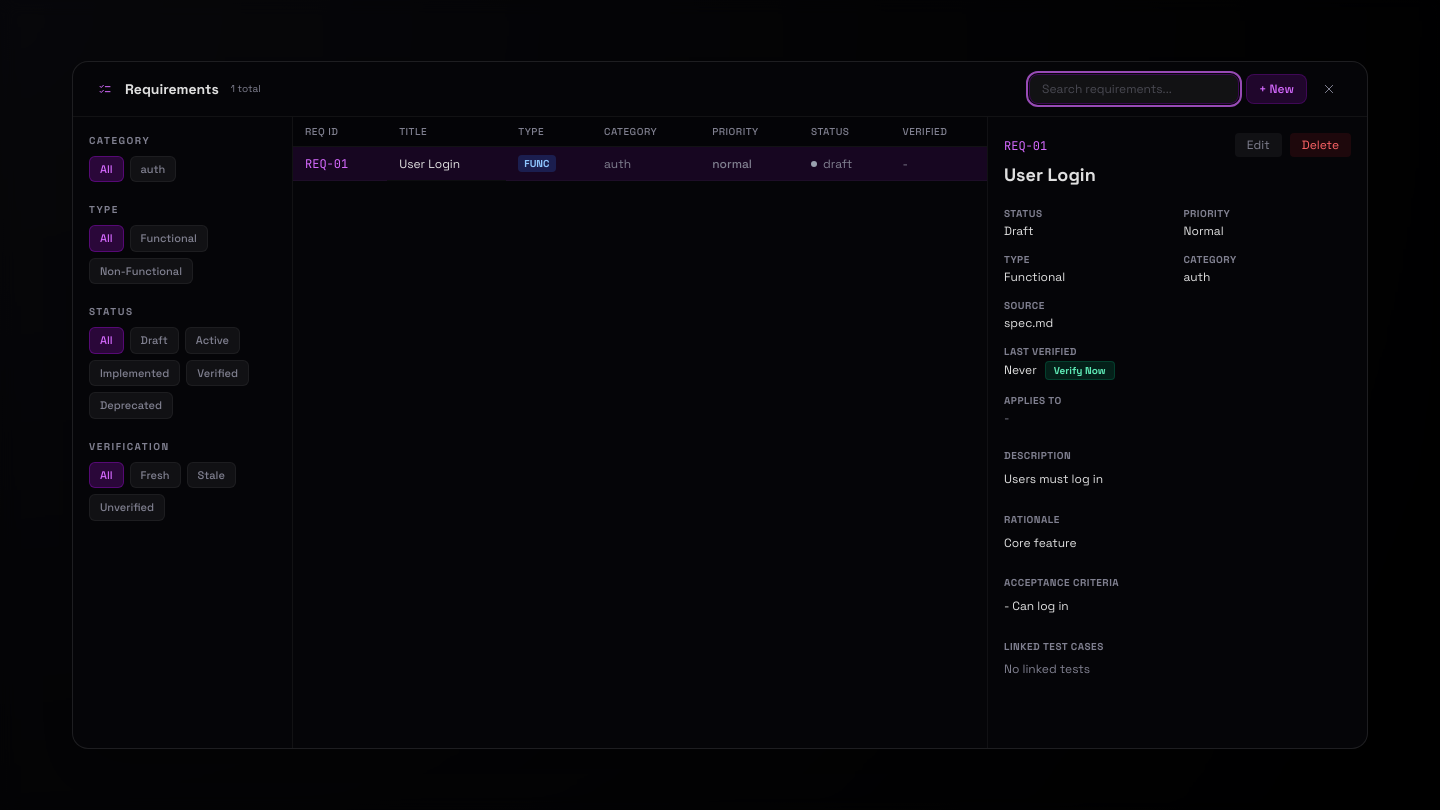
Test: RequirementsModal › deleting a requirement › does not delete the requirement while the confirmation is still open
Click the button with test id "detail-delete-btn": [1320, 145] box [1290,133,1351,157]
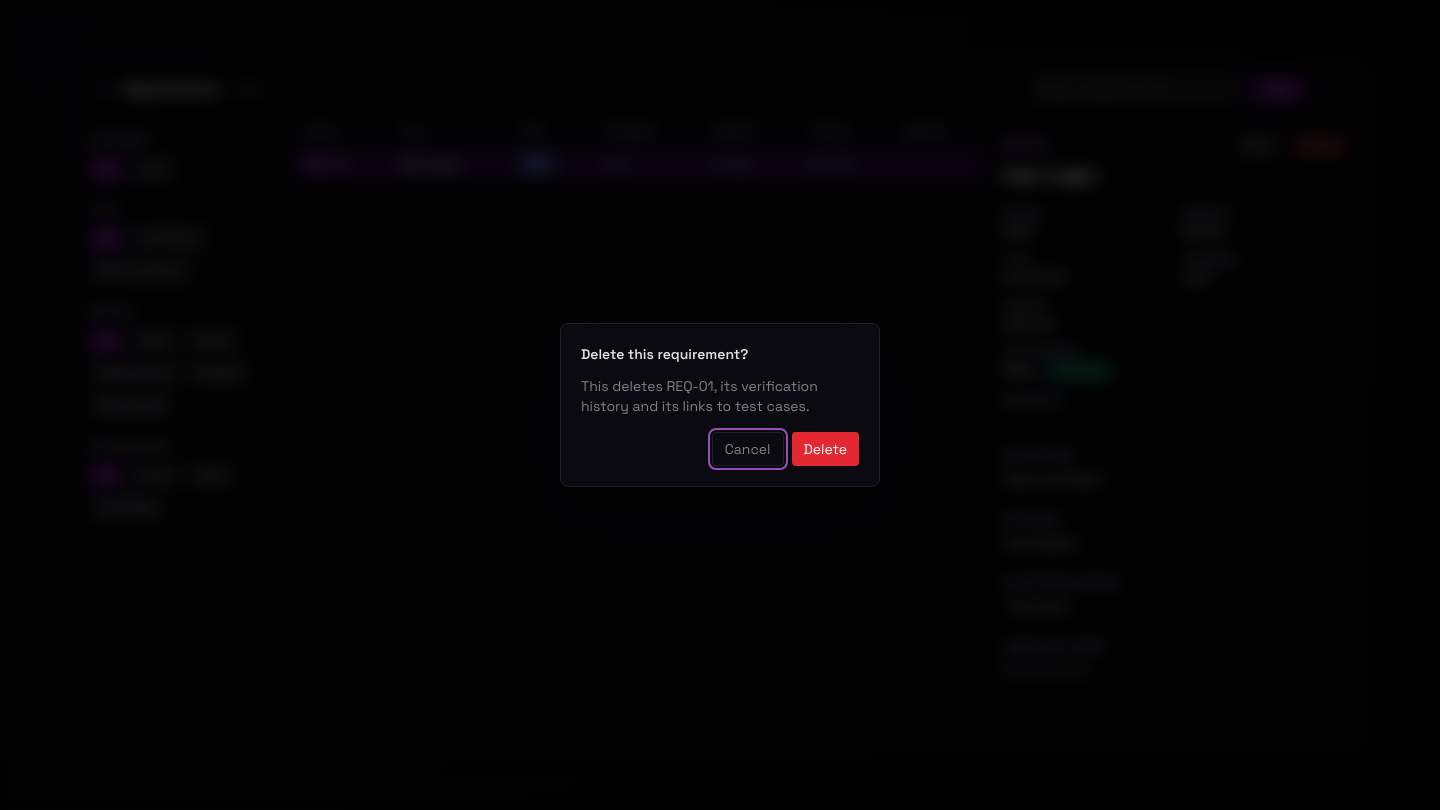
Expected: the dialog "Delete this requirement?" is shown, [560,323,880,487]
